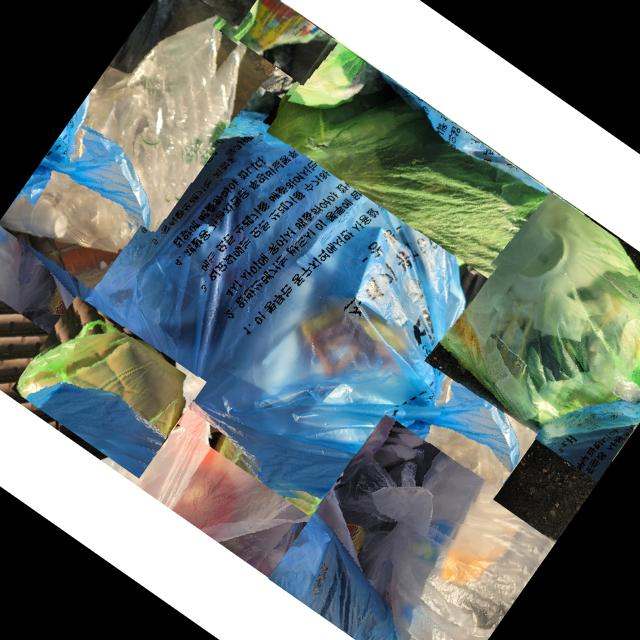general_trashbag: (269, 88, 589, 290), (440, 193, 640, 430), (19, 318, 184, 437), (242, 0, 330, 51)
other_trashbag: (14, 115, 519, 498), (338, 455, 544, 640), (86, 17, 228, 232), (194, 30, 297, 147), (0, 171, 131, 250)
